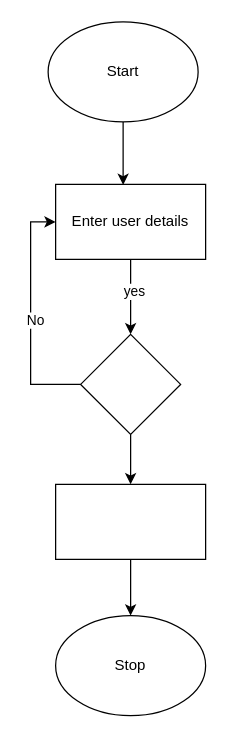
The diagram is 228 pixels wide and 738 high, and some of its shapes have lost their labels. Here are the shapes that lost their labels. From the top down, the box of each, then its label:
(79, 333, 181, 434): is user valid
(54, 483, 206, 559): save the data in database
